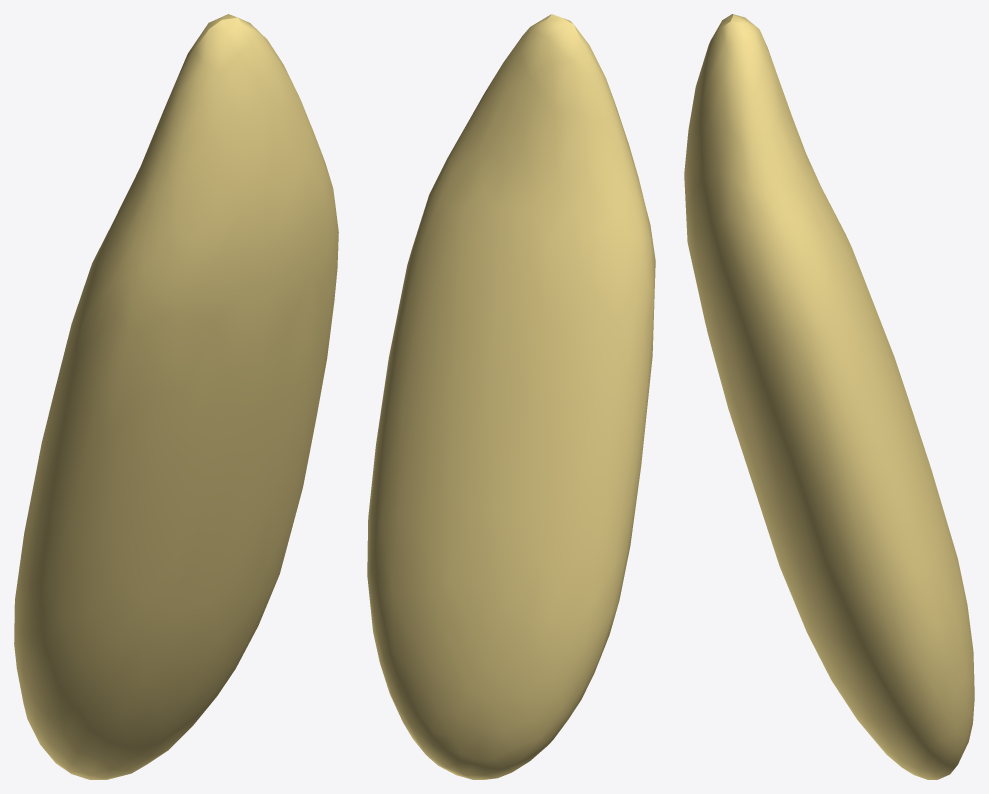
Rendered from fma72466-l_mm3590.glb.
3 renders of one model, left to right at view 1: azimuth 30°, elevation 25°; view 2: azimuth 150°, elevation 25°; view 3: azimuth 270°, elevation 25°, orthographic. The views are drawn at different scales.
Visible parts, largest first — view 1: FMA72466-L_MM3590; view 2: FMA72466-L_MM3590; view 3: FMA72466-L_MM3590.
Boxes of the visible parts, <box> form: FMA72466-L_MM3590: <box>14,14,338,779</box>; FMA72466-L_MM3590: <box>367,14,655,779</box>; FMA72466-L_MM3590: <box>684,14,974,779</box>.
Bounding box in the file's own units: 0.00449 × 0.0127 × 0.0044.
